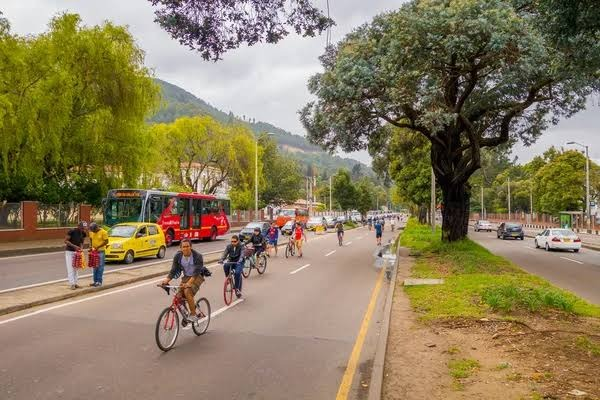car: (94, 183, 229, 253), (136, 191, 227, 248), (97, 196, 179, 256), (170, 193, 226, 242), (105, 223, 164, 263), (109, 224, 163, 262), (538, 231, 583, 252), (551, 237, 577, 254), (553, 231, 572, 246)
